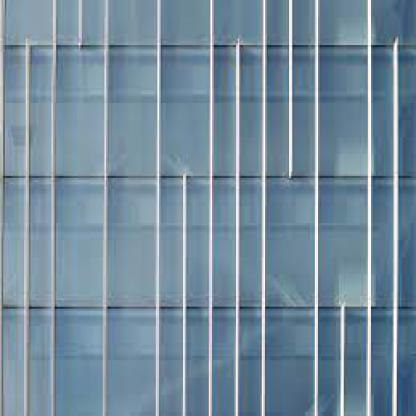window: (60, 50, 100, 168), (114, 187, 153, 298), (116, 52, 152, 168), (61, 184, 98, 296), (167, 52, 202, 170), (60, 313, 100, 412), (273, 187, 308, 298), (326, 63, 361, 170), (112, 315, 151, 410), (325, 189, 358, 298), (273, 315, 307, 414)
